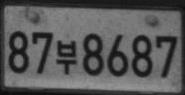6: (106, 34, 129, 77)
7: (155, 35, 177, 78), (31, 31, 53, 73)
8: (7, 30, 30, 74), (81, 33, 104, 76), (131, 34, 153, 78)
부: (55, 39, 77, 74)
